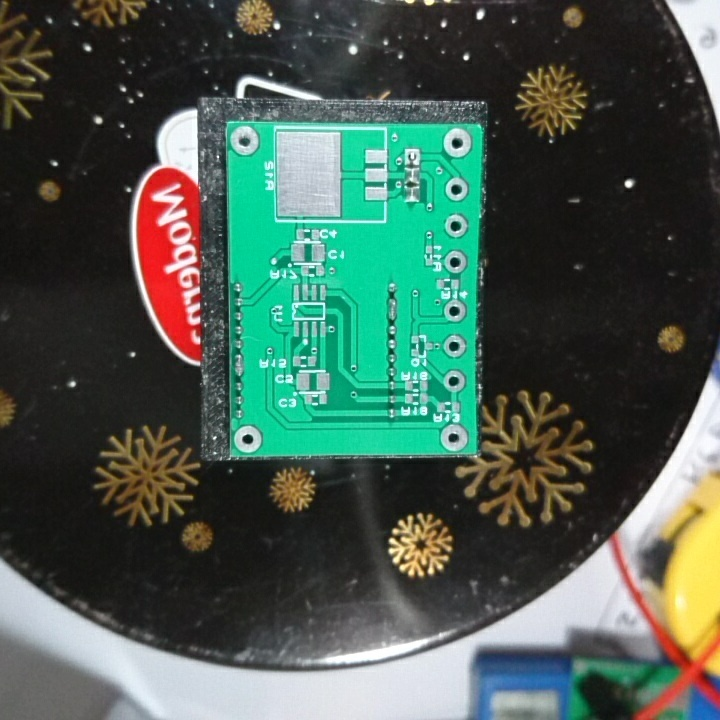F: (227, 123, 262, 160), (231, 421, 266, 455), (441, 125, 473, 162), (436, 421, 472, 453), (439, 329, 470, 361), (441, 296, 470, 326), (441, 367, 468, 397), (444, 175, 470, 206), (444, 246, 470, 275), (443, 212, 468, 240), (402, 145, 424, 169)
P: (385, 295, 403, 325), (231, 352, 249, 379)
